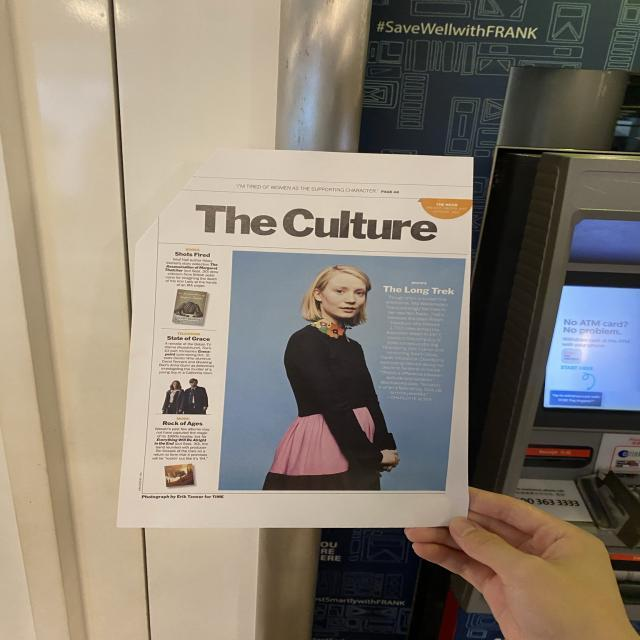document: (118, 149, 472, 528)
